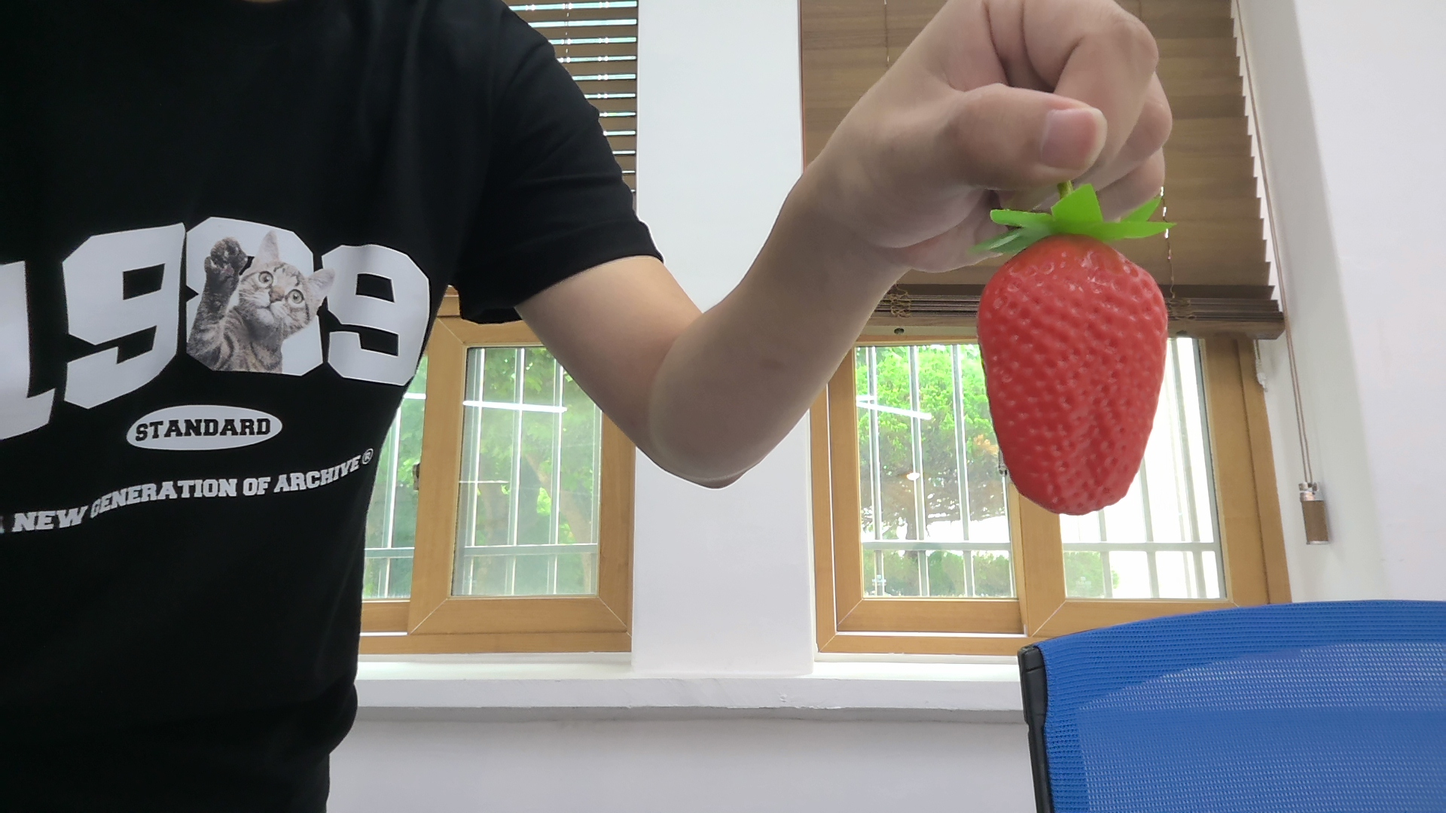strawberry: (956, 215, 1184, 516)
